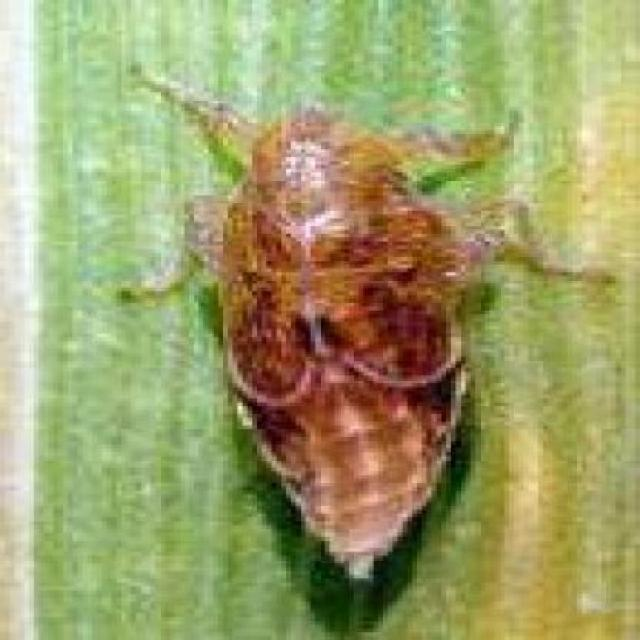brown-planthopper: (196, 88, 472, 590)
